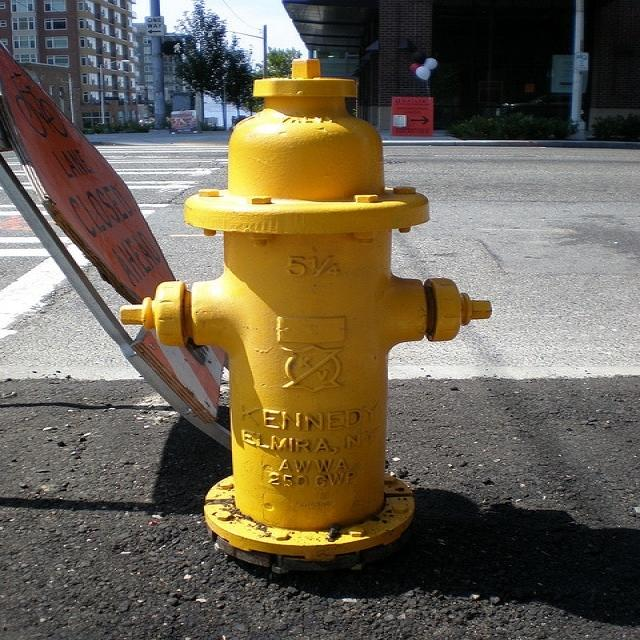fire_hydrant: (150, 47, 474, 570)
